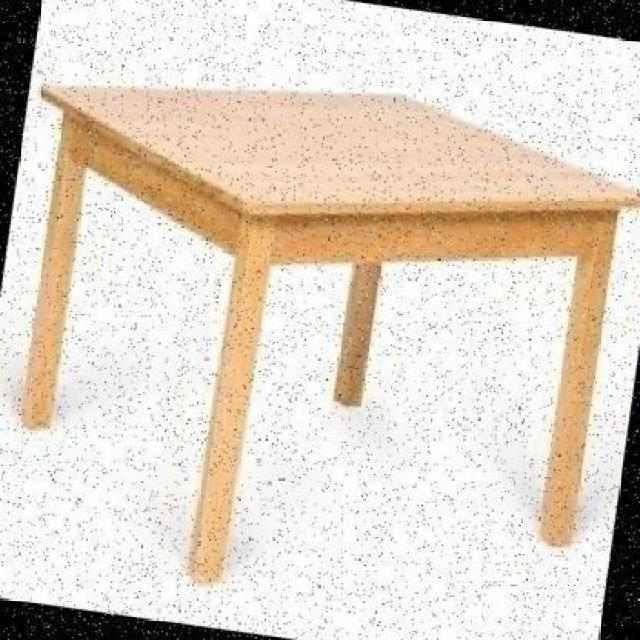tables: (20, 79, 638, 583)
